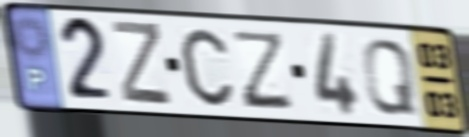2: (54, 14, 121, 107)
4: (313, 30, 362, 119)
C: (178, 25, 236, 109)
Q: (360, 36, 420, 118)
Z: (110, 18, 174, 110), (233, 28, 294, 111)
